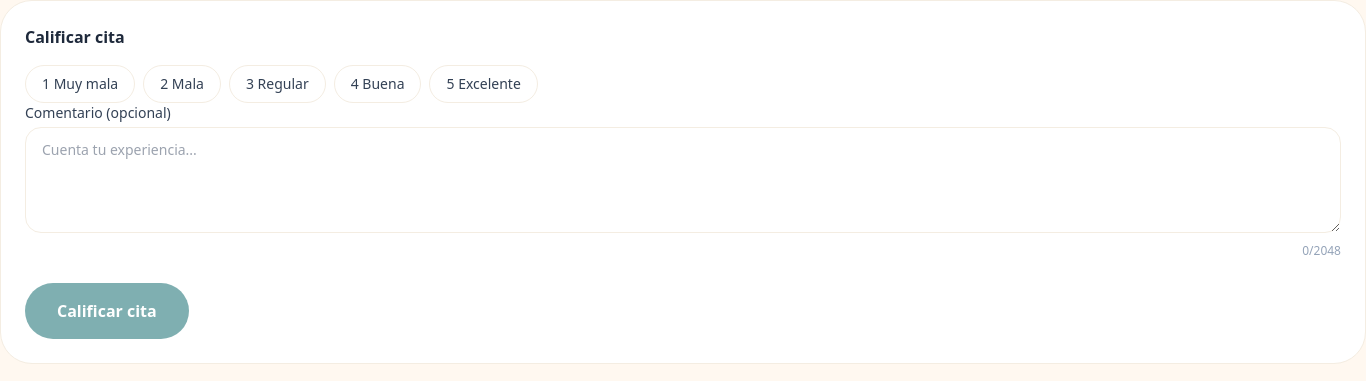
Test: RatingForm › renders disabled submit until a star is selected
Expected: the button "Calificar cita" is disabled, [25,283,189,339]
Click the radio button with aria-label "4 estrella" at (378,84), box [334,65,422,103]
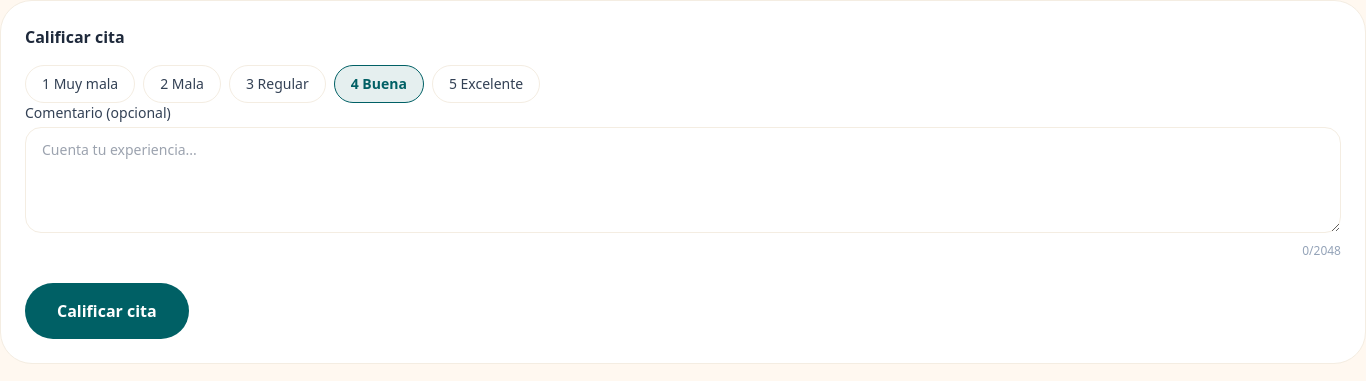
Expected: the button "Calificar cita" is enabled, [25,283,189,339]
